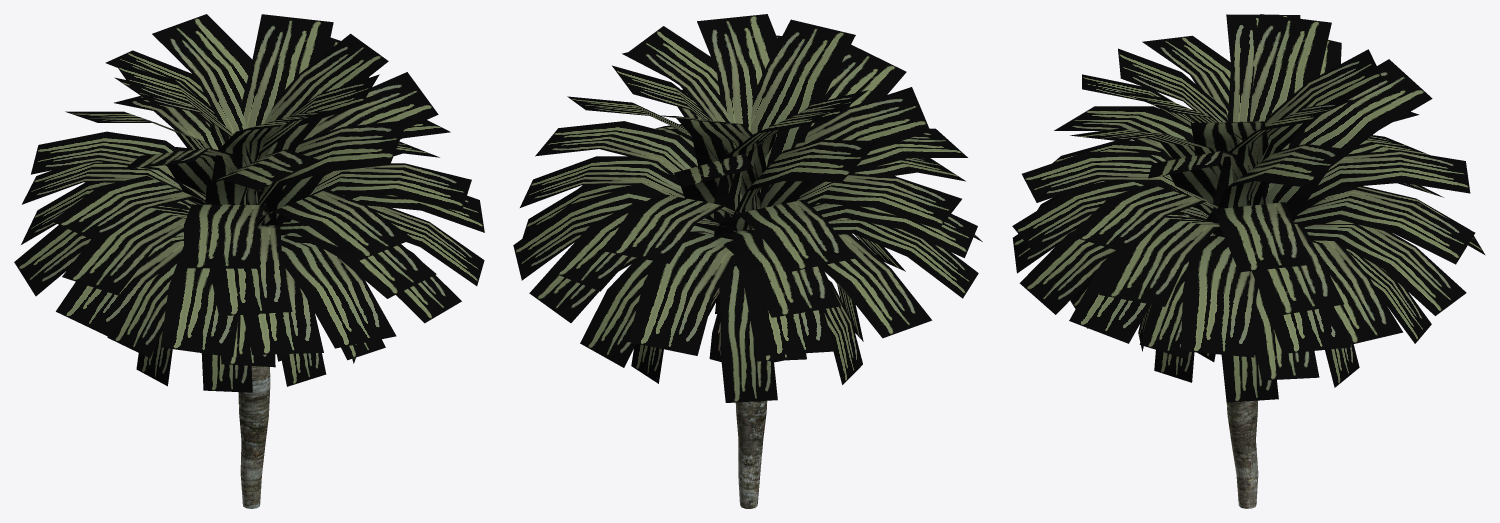
File: xan_LOD0.fbx
The picture shows the model from 3 angles, left to right: view 1: azimuth 30°, elevation 25°; view 2: azimuth 150°, elevation 25°; view 3: azimuth 270°, elevation 25°; orthographic projection.
Visible parts, largest first — view 1: Mesh Object; view 2: Mesh Object; view 3: Mesh Object.
Part boxes in pixels (x1,y1,x2,y2): Mesh Object: (14,14,484,508); Mesh Object: (513,14,982,508); Mesh Object: (1012,14,1485,508).
Size of the model in its own units: 14.01 by 14.28 by 14.03.
